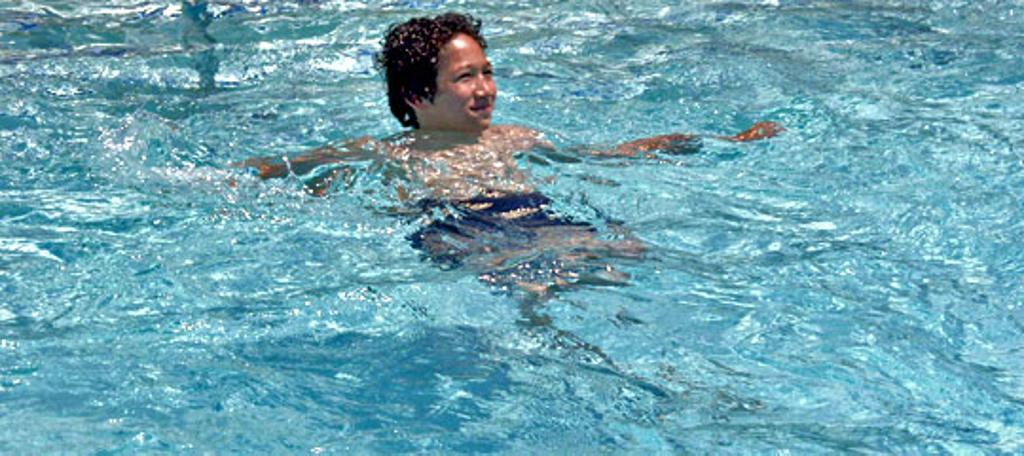face: (428, 30, 500, 130)
